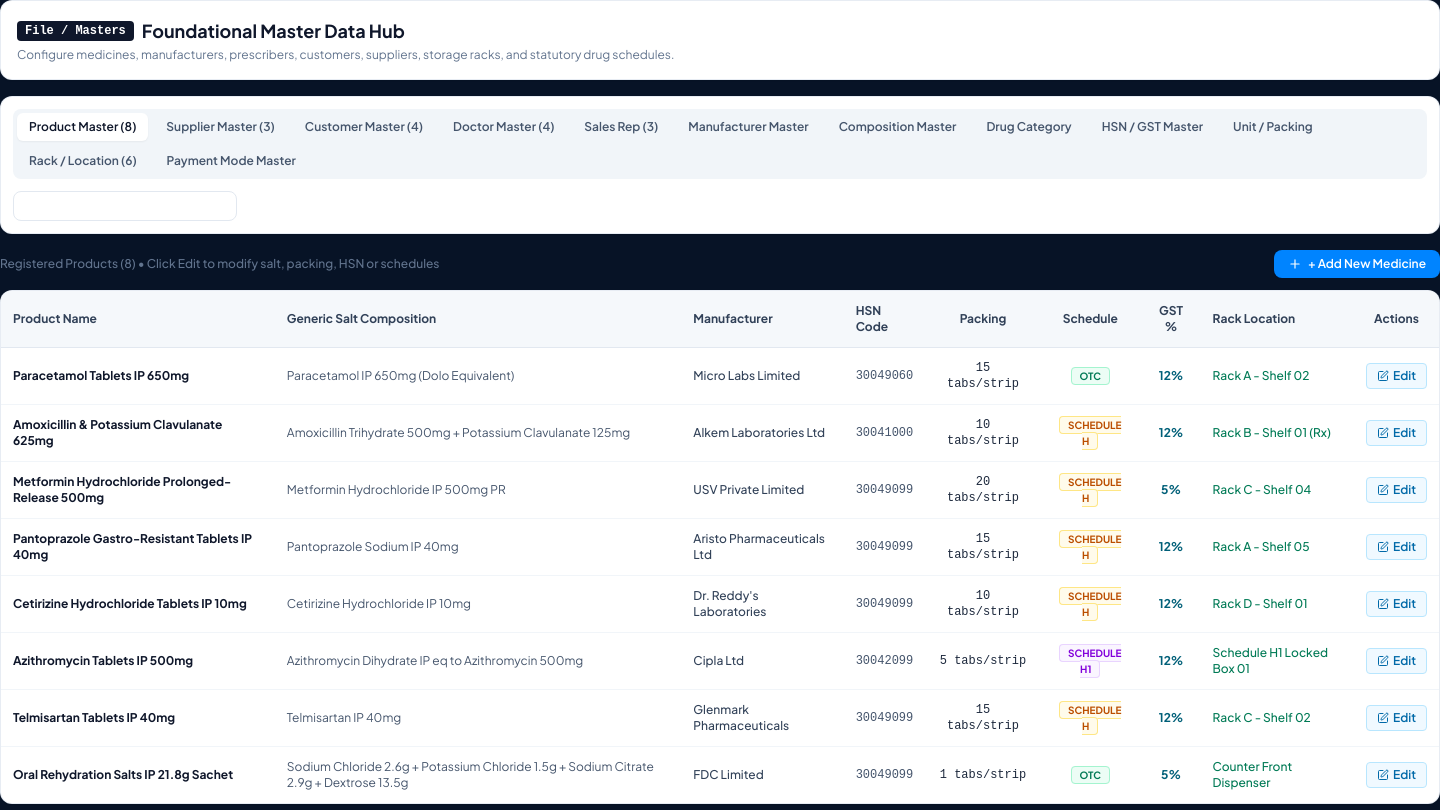
it: User Requested Feature Enhancements › 2. Product Master: allows editing existing product data
Note: Click Edit on the first product
Click the button "Edit" in the row of "Paracetamol Tablets IP 650mg": (1396, 376) [1366, 363, 1427, 389]
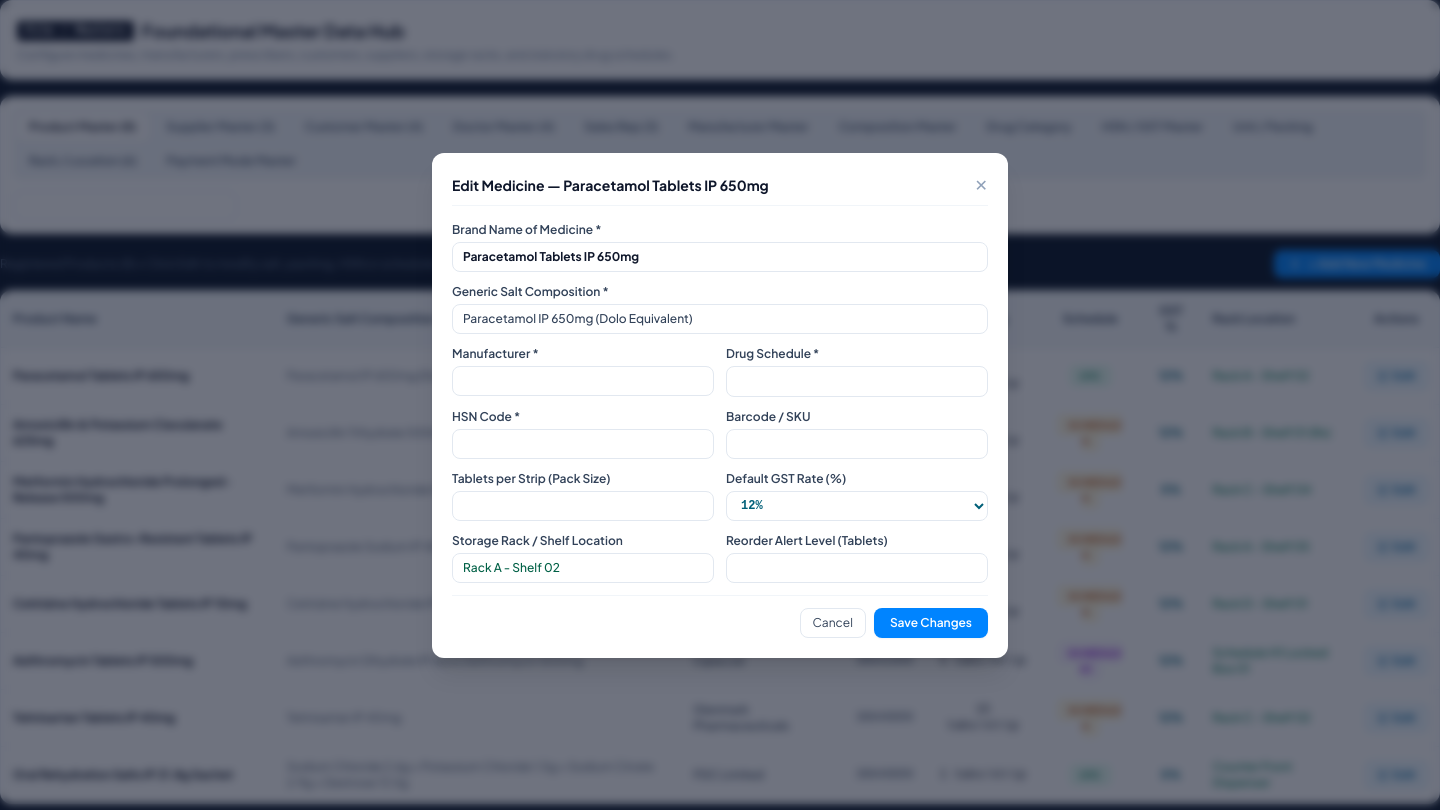
Expected: the text "Edit Medicine — Paracetamol Tablets IP 650mg" is shown, [452, 174, 769, 194]
Expected: the field showing "Paracetamol Tablets IP 650mg" below "Brand Name of Medicine *" is shown, [452, 242, 988, 272]
Note: Cancel or close modal
Click the button "Cancel": (833, 622) [800, 608, 866, 638]
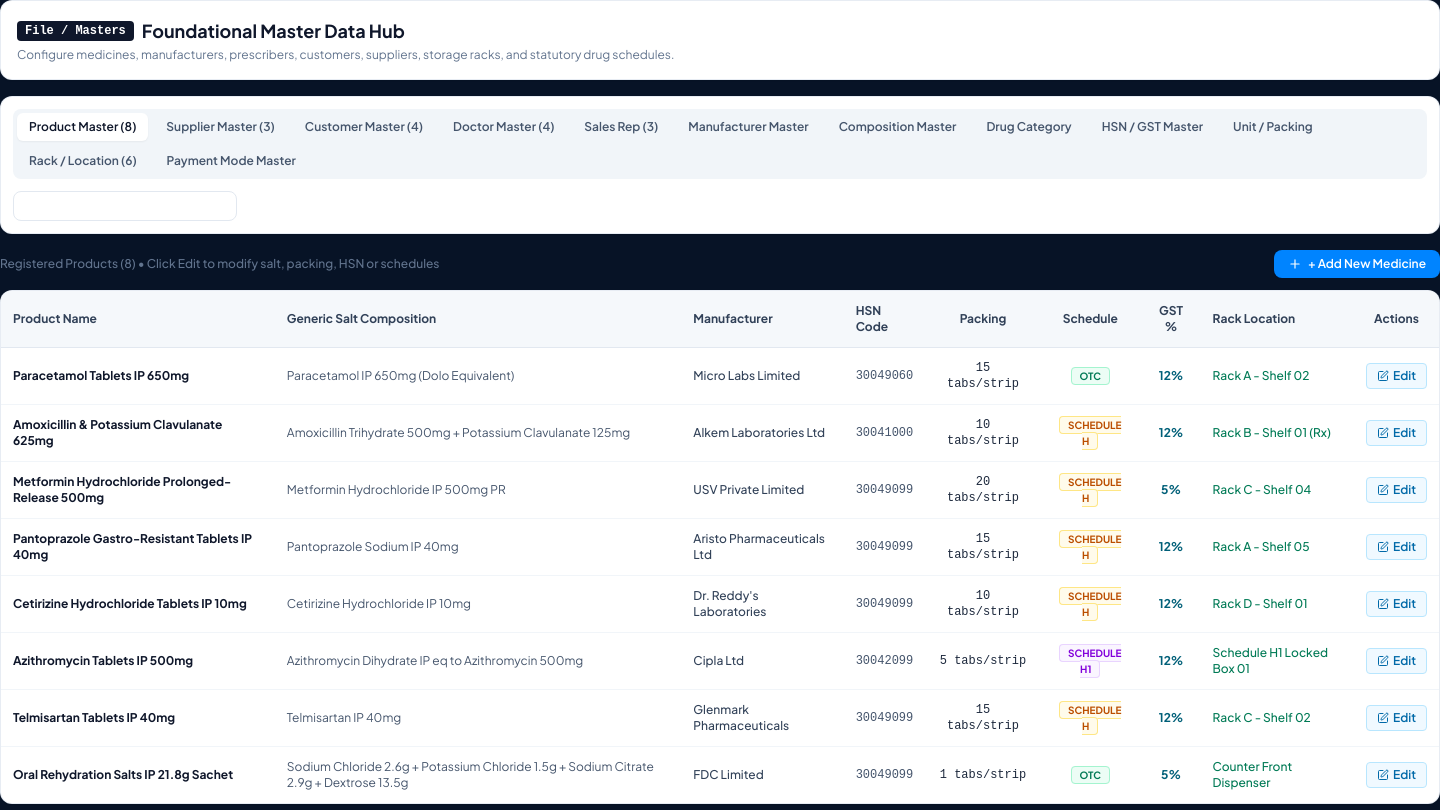
Expected: the text "Edit Medicine —" is gone
